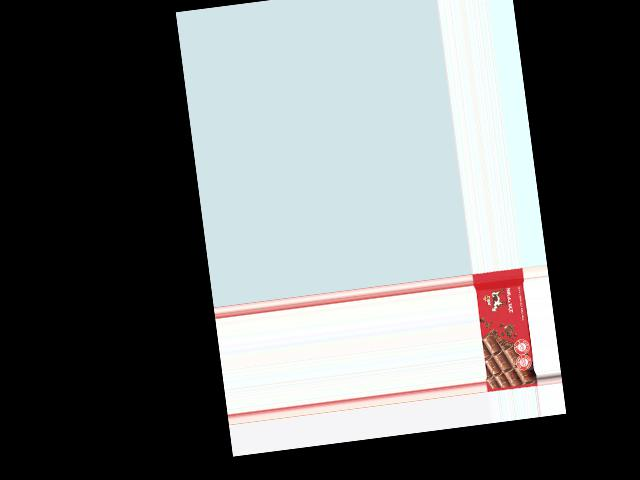chocolate: (473, 269, 538, 392)
